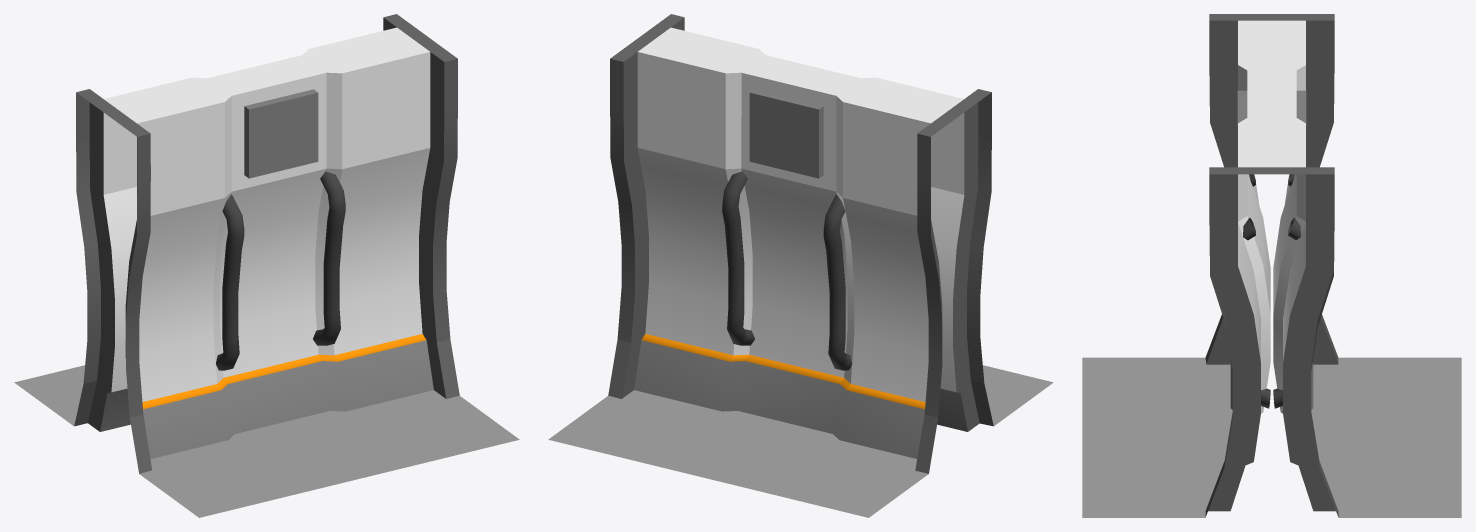
Rendered from SM_InteriorWall_05.fbx.
3 views of the same model, side by side, from view 1: azimuth 30°, elevation 25°; view 2: azimuth 150°, elevation 25°; view 3: azimuth 270°, elevation 25° (orthographic). The views are drawn at different scales.
Parts seen in each view (by area): view 1: SM_InteriorWall_05; view 2: SM_InteriorWall_05; view 3: SM_InteriorWall_05.
Boxes of the visible parts, x1=… form: SM_InteriorWall_05: x1=14, y1=14, x2=519, y2=517; SM_InteriorWall_05: x1=548, y1=14, x2=1053, y2=517; SM_InteriorWall_05: x1=1082, y1=14, x2=1461, y2=517.
Bounding box in the file's own units: 200 × 200 × 200.
Materials: 1 (1 with a texture image).
